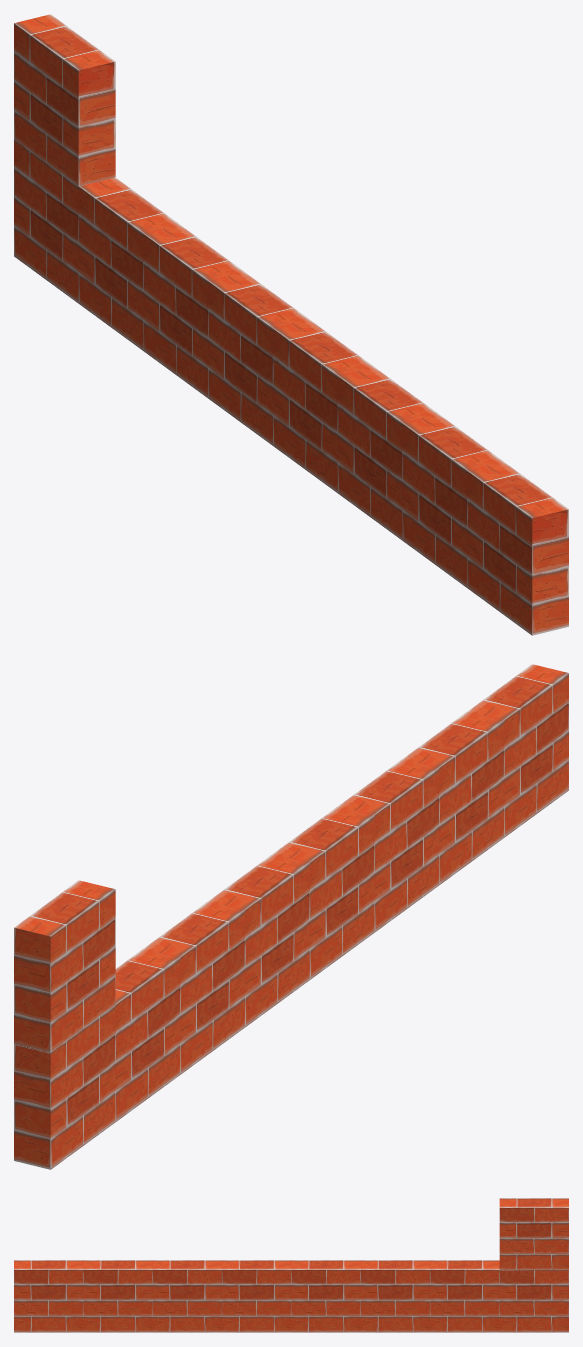
File: WallLong.fbx
The picture shows the model from 3 angles, top to bottom: view 1: azimuth 30°, elevation 25°; view 2: azimuth 150°, elevation 25°; view 3: azimuth 270°, elevation 25°; orthographic projection. The views are drawn at different scales.
Visible parts, largest first — view 1: Cube, Cube.001; view 2: Cube, Cube.001; view 3: Cube, Cube.001.
Part boxes in pixels (bbox=[...]): Cube: bbox=[14, 139, 568, 635]; Cube.001: bbox=[14, 14, 115, 186]; Cube: bbox=[14, 664, 568, 1169]; Cube.001: bbox=[14, 880, 115, 1053]; Cube: bbox=[14, 1260, 568, 1332]; Cube.001: bbox=[499, 1198, 568, 1270].
Bounding box in the file's own units: 65.53 × 397 × 1600.
Materials: 2 (2 with a texture image).
